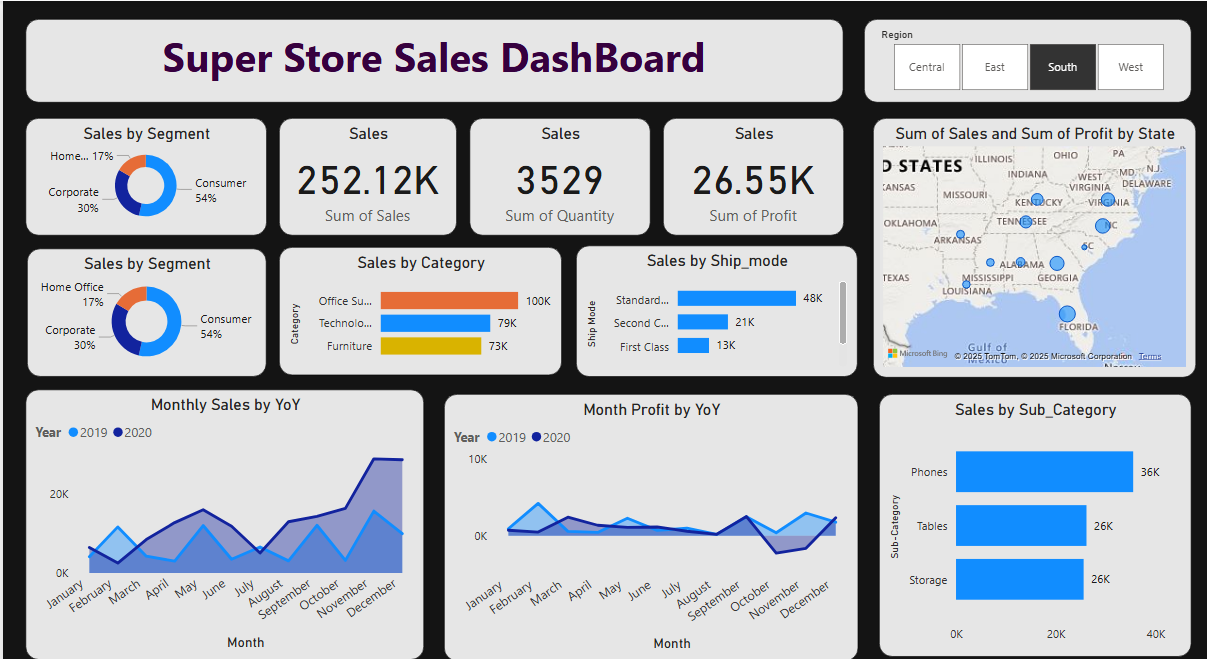

This screenshot's page, from the dashboard's own definition file:
{"tool":"powerbi","page":{"name":"Page 1","canvas":[1280,720],"ordinal":0},"visuals":[{"type":"clusteredBarChart","title":" Sales by Category","fields":{"Category":["SuperStore_Sales_Dataset.Category"],"Y":["Sum(SuperStore_Sales_Dataset.Sales)"]},"box":[293.4,260.7,300,136.1],"z":0},{"type":"clusteredBarChart","title":" Sales by Sub_Category","fields":{"Y":["Sum(SuperStore_Sales_Dataset.Sales)"],"Category":["SuperStore_Sales_Dataset.Sub-Category"]},"box":[929.5,416.4,331.1,278.7],"z":1000},{"type":"clusteredBarChart","title":" Sales by Ship_mode","fields":{"Y":["Sum(SuperStore_Sales_Dataset.Sales)"],"Category":["SuperStore_Sales_Dataset.Ship Mode"]},"box":[608.2,259,298.4,139.3],"z":2000},{"type":"areaChart","title":"Monthly Sales by YoY","fields":{"Category":["SuperStore_Sales_Dataset.Order Date.Variation.Date Hierarchy.Month","SuperStore_Sales_Dataset.Order Date.Variation.Date Hierarchy.Day"],"Y":["Sum(SuperStore_Sales_Dataset.Sales)"],"Series":["SuperStore_Sales_Dataset.Order Date.Variation.Date Hierarchy.Year"]},"box":[24.6,411.5,423,286.9],"z":3000},{"type":"areaChart","title":"Month Profit by YoY","fields":{"Category":["SuperStore_Sales_Dataset.Order Date.Variation.Date Hierarchy.Month","SuperStore_Sales_Dataset.Order Date.Variation.Date Hierarchy.Day"],"Series":["SuperStore_Sales_Dataset.Order Date.Variation.Date Hierarchy.Year"],"Y":["Sum(SuperStore_Sales_Dataset.Profit)"]},"box":[467.2,416.4,439.3,283.6],"z":4000},{"type":"map","fields":{"Category":["SuperStore_Sales_Dataset.State"],"Size":["Sum(SuperStore_Sales_Dataset.Sales)"]},"box":[923,124.6,342.6,275.4],"z":5000},{"type":"donutChart","title":"Sales by Segment","fields":{"Category":["SuperStore_Sales_Dataset.Segment"],"Y":["Sum(SuperStore_Sales_Dataset.Sales)"]},"box":[24.6,124.6,255.7,124.6],"z":6000},{"type":"donutChart","title":"Sales by Segment","fields":{"Category":["SuperStore_Sales_Dataset.Segment"],"Y":["Sum(SuperStore_Sales_Dataset.Sales)"]},"box":[26.2,262.3,254.1,136.1],"z":7000},{"type":"slicer","fields":{"Values":["SuperStore_Sales_Dataset.Region"]},"box":[913.1,19.7,347.5,88.5],"z":8000},{"type":"textbox","box":[24.6,19.7,867.2,88.5],"z":9000},{"type":"card","title":"Sales","fields":{"Values":["Sum(SuperStore_Sales_Dataset.Sales)"]},"box":[293.4,124.6,188.5,124.6],"z":10000},{"type":"card","title":"Sales","fields":{"Values":["Sum(SuperStore_Sales_Dataset.Quantity)"]},"box":[495.1,124.6,191.8,124.6],"z":11000},{"type":"card","title":"Sales","fields":{"Values":["Sum(SuperStore_Sales_Dataset.Profit)"]},"box":[700,124.6,191.8,124.6],"z":12000}]}

Visuals, with their boxes in screenshot pixels (x1, y1, x2, y2):
" Sales by Category" clusteredBarChart: pyautogui.locateOnScreen(278, 244, 559, 372)
" Sales by Sub_Category" clusteredBarChart: pyautogui.locateOnScreen(874, 390, 1185, 652)
" Sales by Ship_mode" clusteredBarChart: pyautogui.locateOnScreen(573, 243, 853, 373)
"Monthly Sales by YoY" areaChart: pyautogui.locateOnScreen(26, 386, 423, 655)
"Month Profit by YoY" areaChart: pyautogui.locateOnScreen(441, 390, 853, 656)
map - SuperStore_Sales_Dataset.State x Sum(SuperStore_Sales_Dataset.Sales): pyautogui.locateOnScreen(868, 117, 1189, 375)
"Sales by Segment" donutChart: pyautogui.locateOnScreen(26, 117, 266, 234)
"Sales by Segment" donutChart: pyautogui.locateOnScreen(28, 246, 266, 373)
slicer - SuperStore_Sales_Dataset.Region: pyautogui.locateOnScreen(859, 18, 1185, 101)
textbox: pyautogui.locateOnScreen(26, 18, 839, 101)
"Sales" card: pyautogui.locateOnScreen(278, 117, 455, 234)
"Sales" card: pyautogui.locateOnScreen(467, 117, 647, 234)
"Sales" card: pyautogui.locateOnScreen(659, 117, 839, 234)
